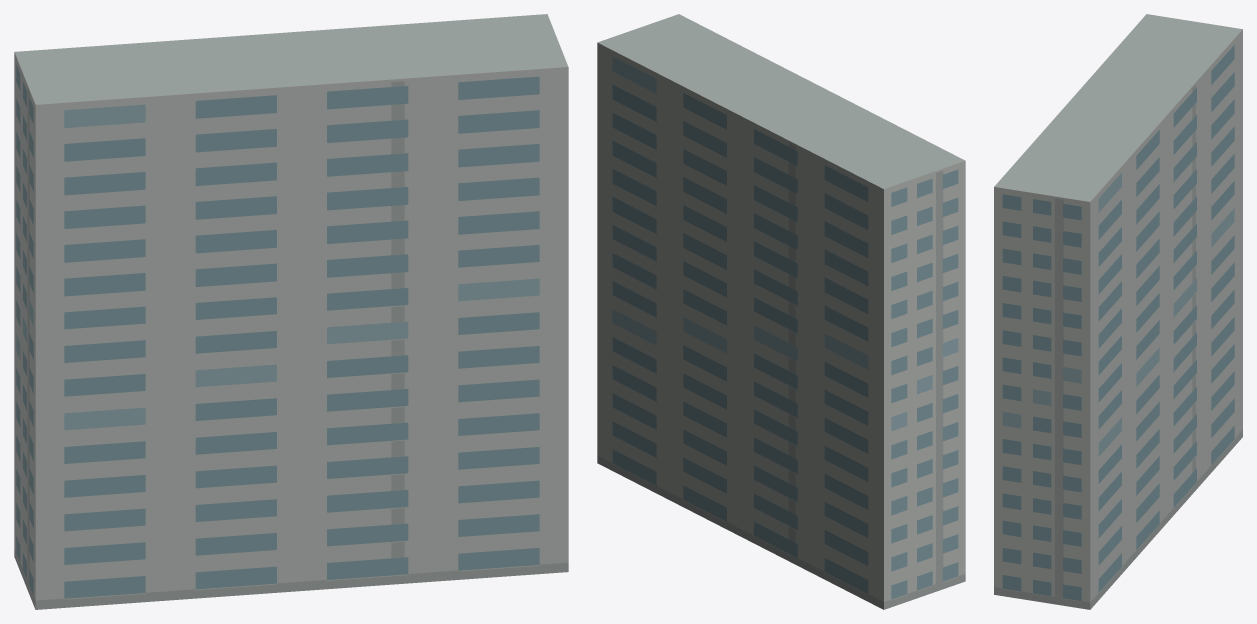
File: residential-14a78ef0-9a67-45f0-9702-beeb7b3125bf.glb
The picture shows the model from 3 angles, left to right: view 1: azimuth 30°, elevation 25°; view 2: azimuth 150°, elevation 25°; view 3: azimuth 270°, elevation 25°; orthographic projection. The views are drawn at different scales.
Visible parts, largest first — view 1: residential-14a78ef0-9a67-45f0-9702-beeb7b3125bf.tmp; view 2: residential-14a78ef0-9a67-45f0-9702-beeb7b3125bf.tmp; view 3: residential-14a78ef0-9a67-45f0-9702-beeb7b3125bf.tmp.
Part boxes in pixels (box(x1,y1,x2,y2)): residential-14a78ef0-9a67-45f0-9702-beeb7b3125bf.tmp: box(14, 14, 568, 609); residential-14a78ef0-9a67-45f0-9702-beeb7b3125bf.tmp: box(597, 14, 965, 609); residential-14a78ef0-9a67-45f0-9702-beeb7b3125bf.tmp: box(994, 14, 1242, 609).
Size of the model in its own units: 49.44 by 50 by 27.65.
